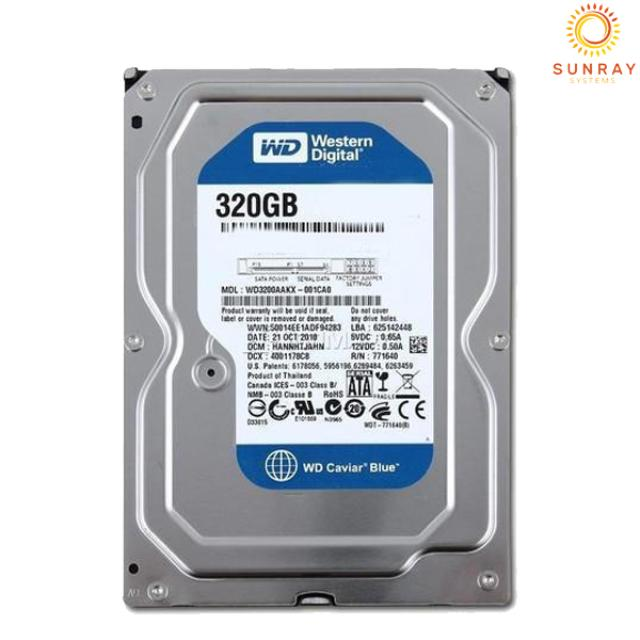HDD: (122, 66, 519, 614)
